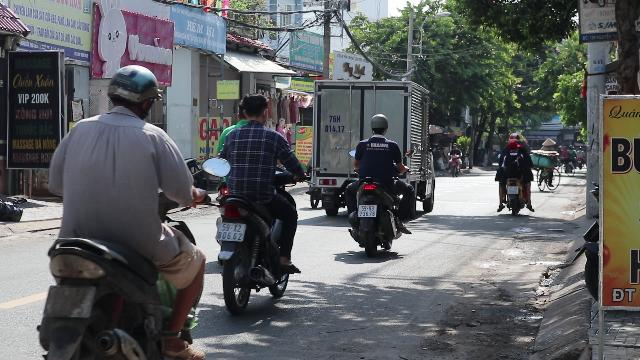helmet: (103, 64, 161, 118), (369, 114, 389, 134)
licenseplate: (46, 286, 92, 316), (217, 223, 245, 241), (358, 205, 376, 217)
motorcyclist: (34, 64, 216, 356), (210, 92, 304, 316), (344, 114, 414, 256)
nohelmet: (238, 93, 270, 124)
